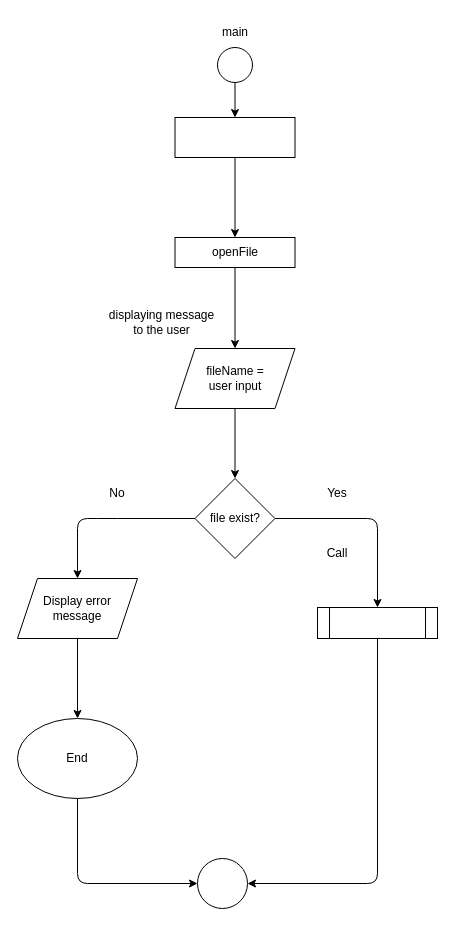
The diagram is 455 pixels wide and 926 high, and some of its shapes have lost their labels. The shapes that lost their labels are listed below. From the top down, each one's box as (x1, y1, x2, y2) in pixels, then its label:
(174, 116, 295, 158): Virtualmachine Initilization
(316, 606, 438, 638): readFile
